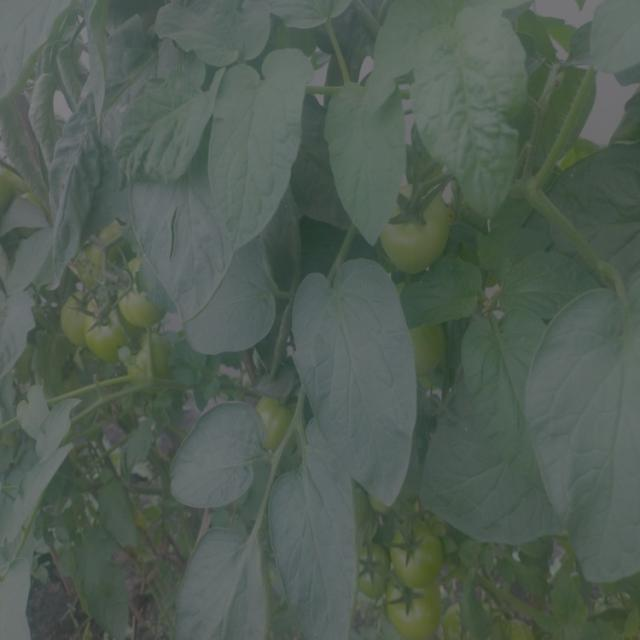tomato: (384, 182, 452, 274), (117, 258, 180, 330), (63, 290, 114, 359), (399, 518, 449, 582), (393, 588, 444, 636), (124, 334, 170, 387), (410, 318, 449, 378), (358, 546, 389, 597), (263, 399, 294, 446), (87, 223, 123, 258), (358, 489, 372, 522)
